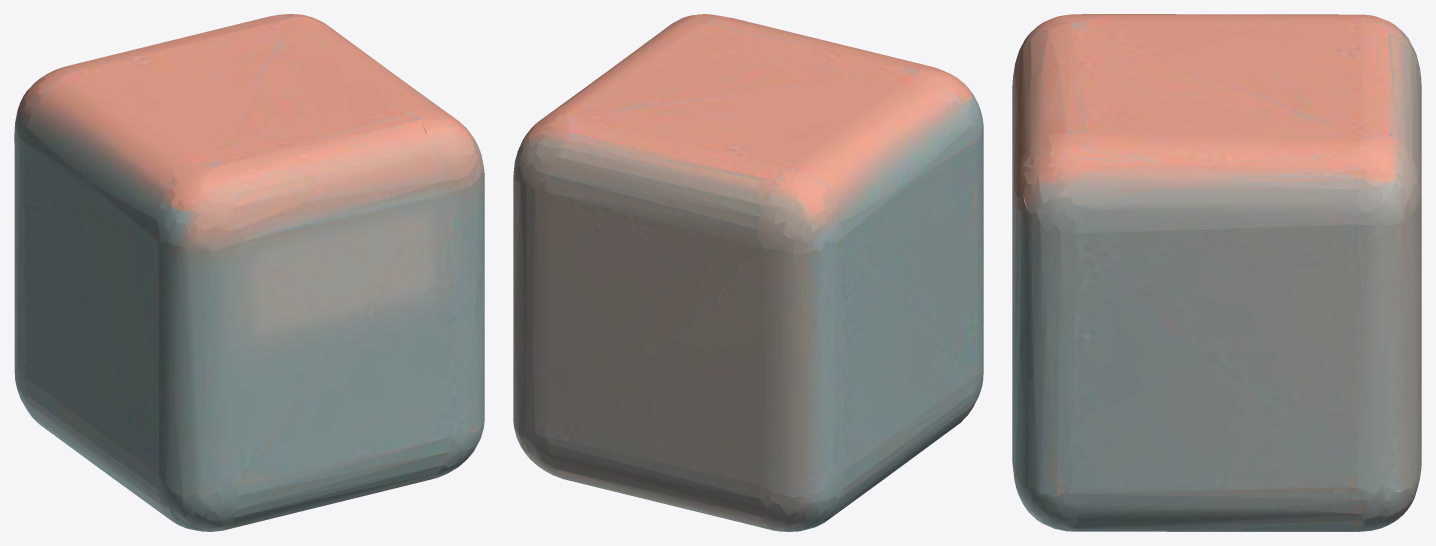
Rendered from toyBlock.618a565c.glb.
The picture shows the model from 3 angles, left to right: view 1: azimuth 30°, elevation 25°; view 2: azimuth 150°, elevation 25°; view 3: azimuth 270°, elevation 25°; orthographic projection. The views are drawn at different scales.
Parts seen in each view (by area): view 1: output_unwrapped; view 2: output_unwrapped; view 3: output_unwrapped.
Boxes of the visible parts, x1,y1,x2,y2 form: output_unwrapped: (14, 14, 484, 531); output_unwrapped: (513, 14, 983, 531); output_unwrapped: (1012, 14, 1421, 531).
Bounding box in the file's own units: 1.74 × 1.87 × 1.77.
Materials: 1 (1 with a texture image).
